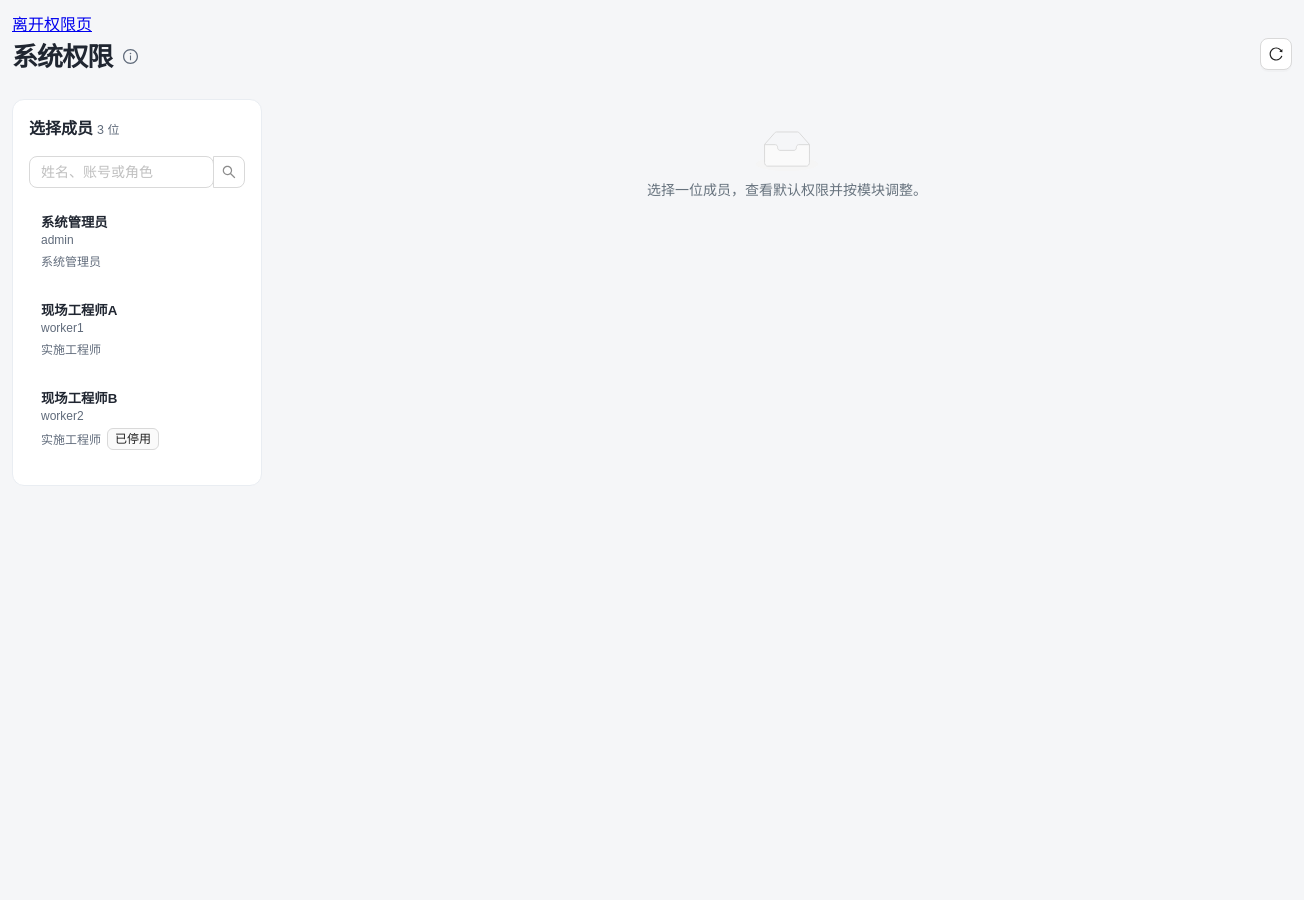
Test: names the real catalog scopes and risks in Chinese and retains detailed descriptions
Click the button with aria-label "选择成员：现场工程师A". click: (137, 328)
box: [29,288,245,369]
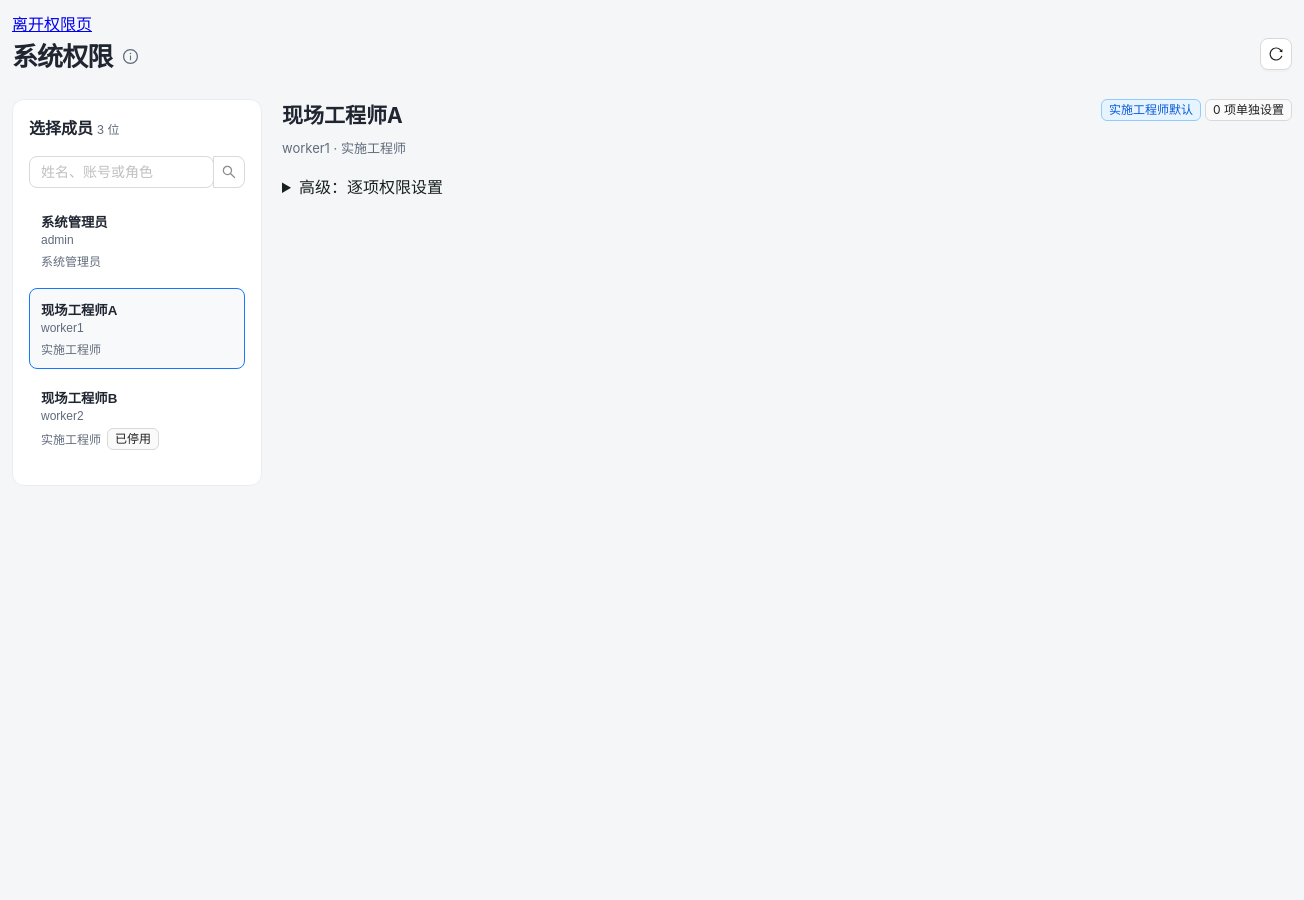
expect the heading "现场工程师A" is shown: met, box [282,99,406,133]
Click the heading "高级：逐项权限设置". click: (371, 187)
box: [299,177,443,197]
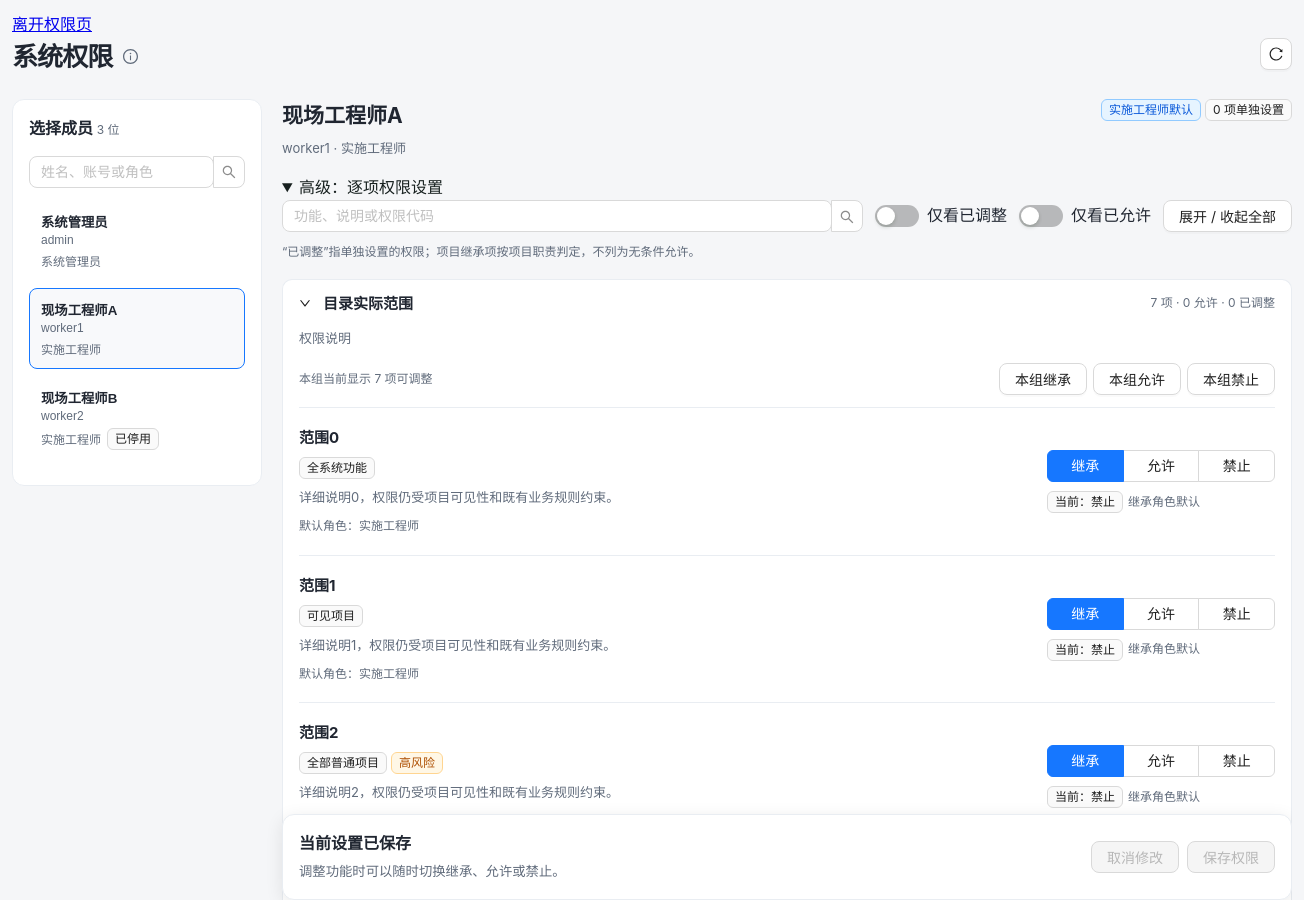
expect the element named "权限：范围2" does not show "all_projects": met, box [299,703,1275,851]
expect the element named "权限：范围2" shows "全部普通项目": met, box [307,755,379,770]
expect the element named "权限：范围2" shows "高风险": met, box [399,755,435,770]
